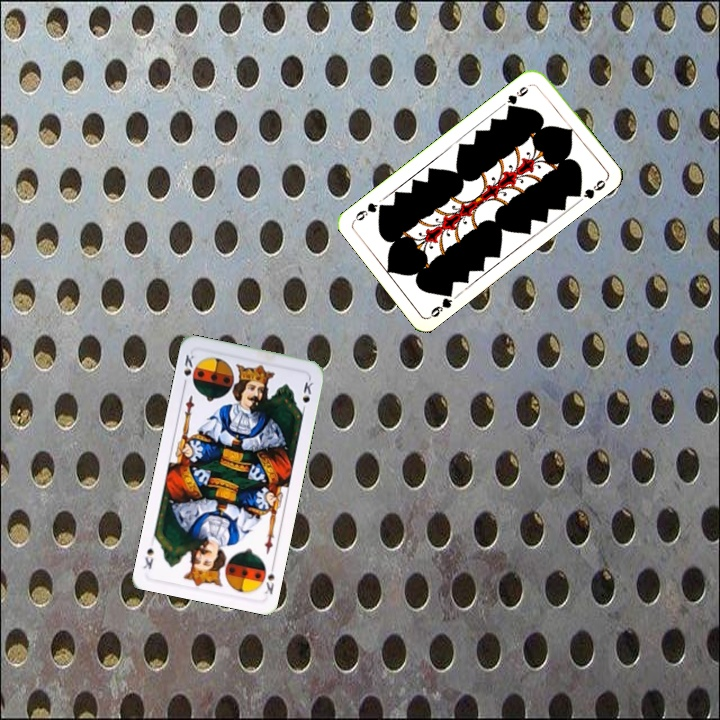G9: (503, 80, 535, 112), (425, 286, 455, 320)
SK: (179, 349, 197, 389), (260, 559, 277, 597)
